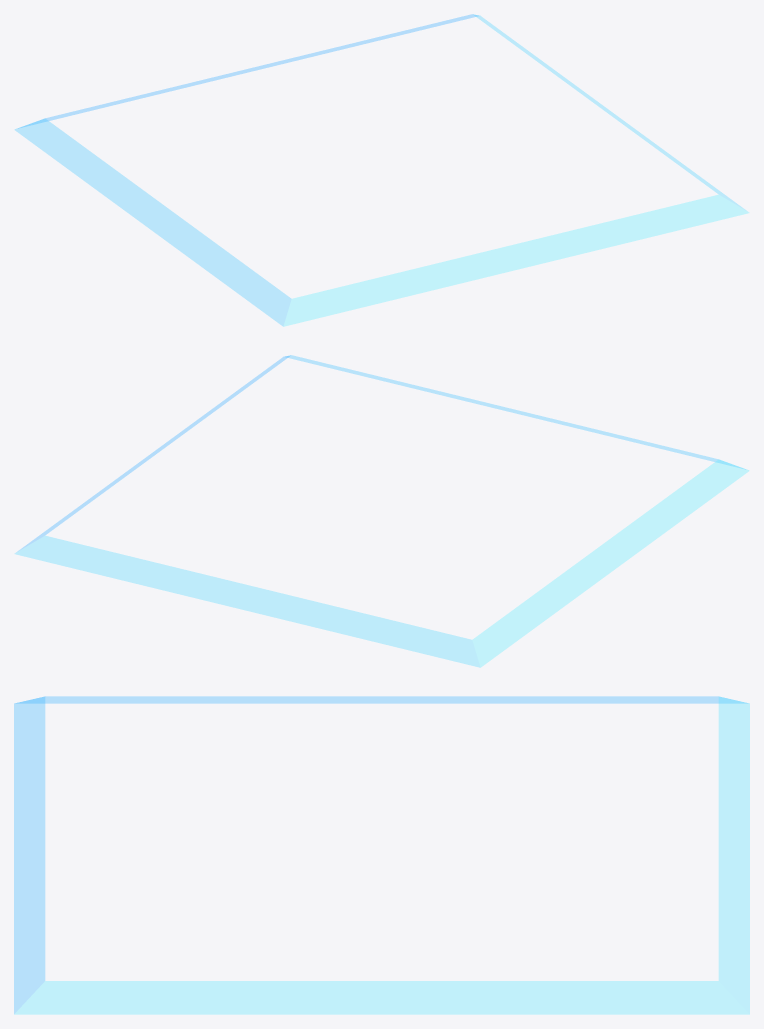
Rendered from Player_Halo.fbx.
The picture shows the model from 3 angles, top to bottom: view 1: azimuth 30°, elevation 25°; view 2: azimuth 150°, elevation 25°; view 3: azimuth 270°, elevation 25°; orthographic projection. The views are drawn at different scales.
Visible parts, largest first — view 1: pPlane33; view 2: pPlane33; view 3: pPlane33.
Part boxes in pixels (box(x1,y1,x2,y2)): pPlane33: box(15, 14, 748, 326); pPlane33: box(15, 355, 748, 667); pPlane33: box(14, 696, 749, 1014).
Size of the model in its own units: 722 by 22.02 by 722.
